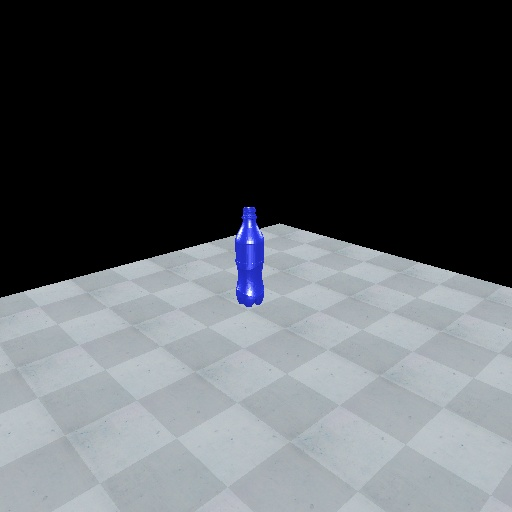bottle: (232, 205, 268, 308)
